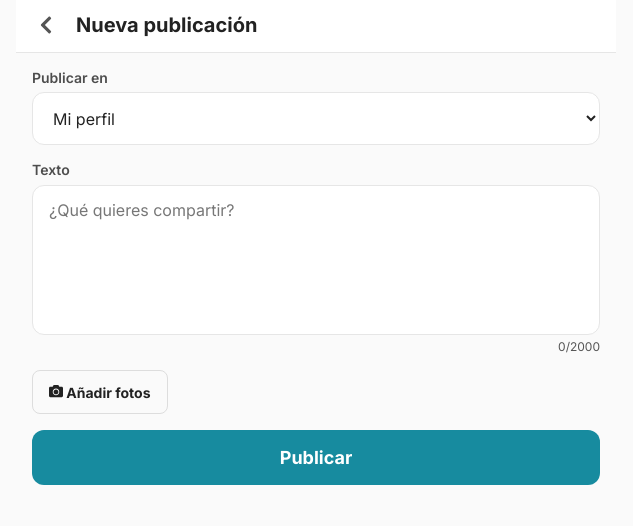
Test case: PostCreate › does not send an empty text
What coordinates should you click on to do the following:
click the button "Publicar"
I would click on:
 (316, 458)
Its box is [32,430,600,485].
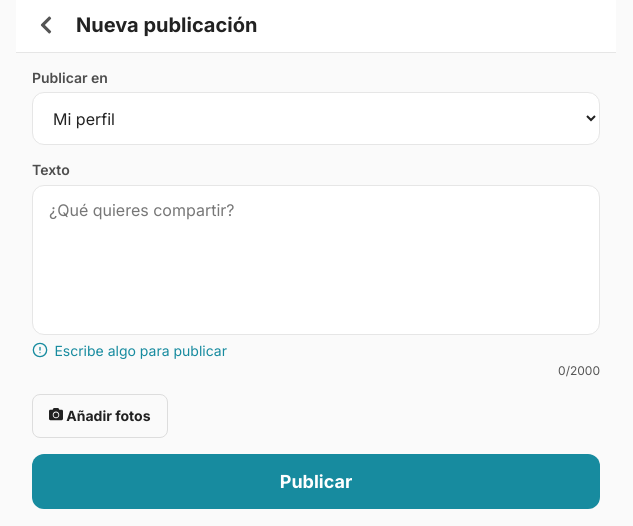
Expected: the text "Escribe algo para publicar" is shown, [32,342,227,359]
